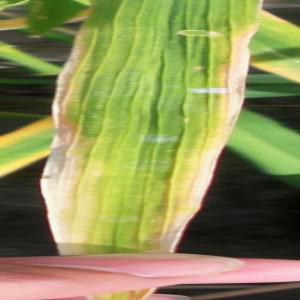2 BacterialBlight: (49, 24, 231, 257)
